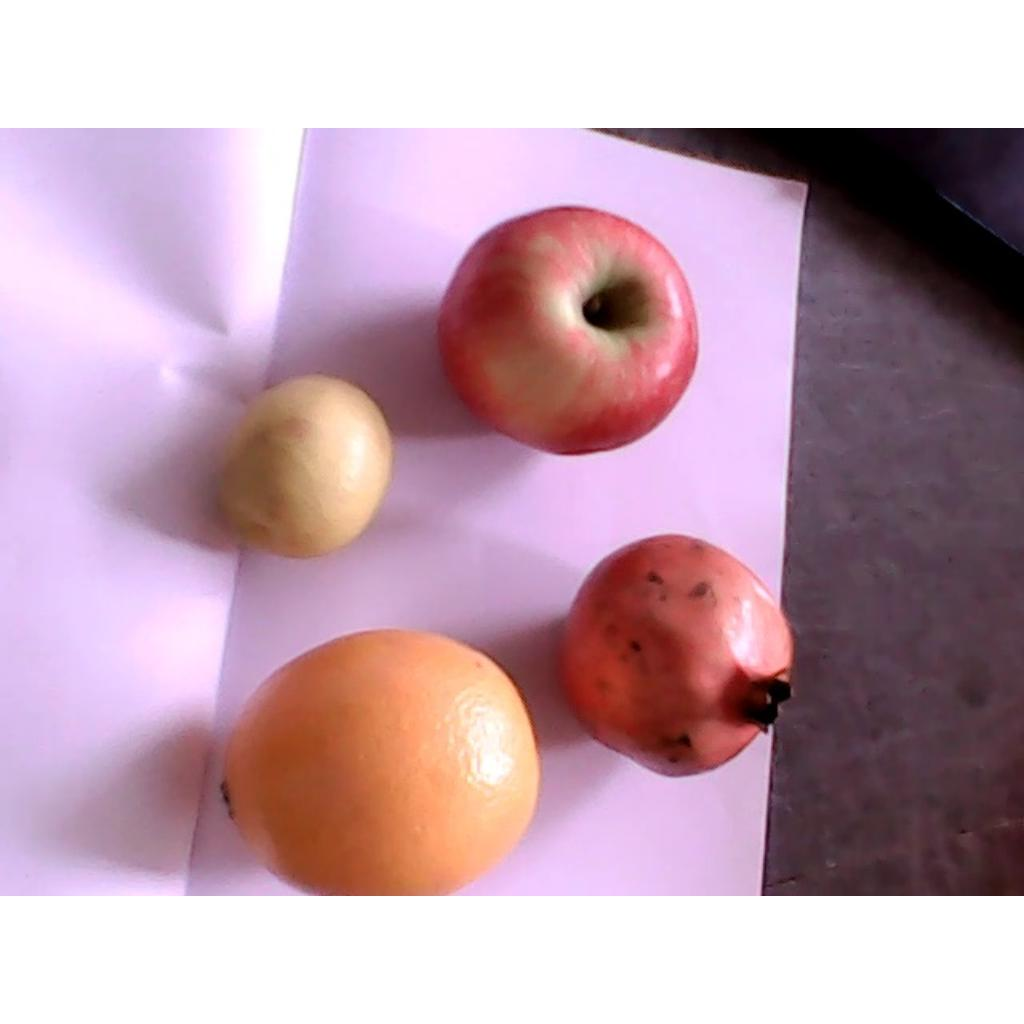apple: (434, 207, 700, 455)
lemon: (214, 374, 393, 558)
orange: (223, 627, 545, 894)
pomegranate: (557, 535, 798, 775)
